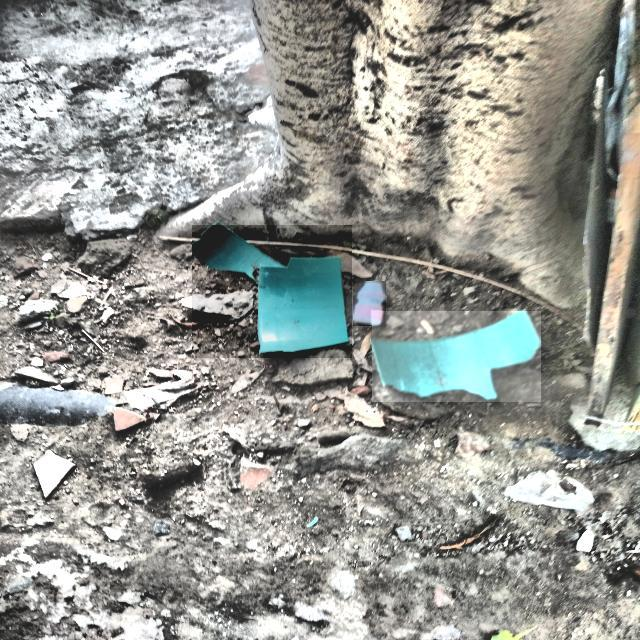anorganik: (193, 225, 352, 357), (372, 312, 541, 402), (354, 282, 385, 325)
